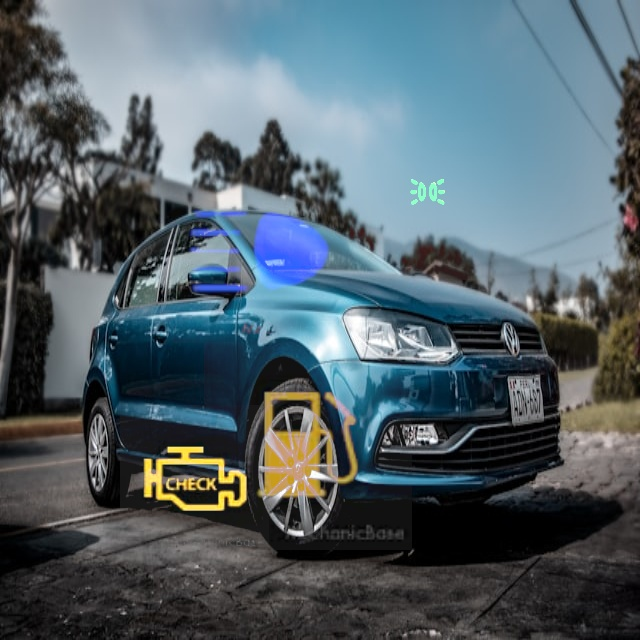symbol: (204, 342, 412, 550), (171, 162, 352, 343), (350, 122, 508, 280), (120, 405, 269, 554)
